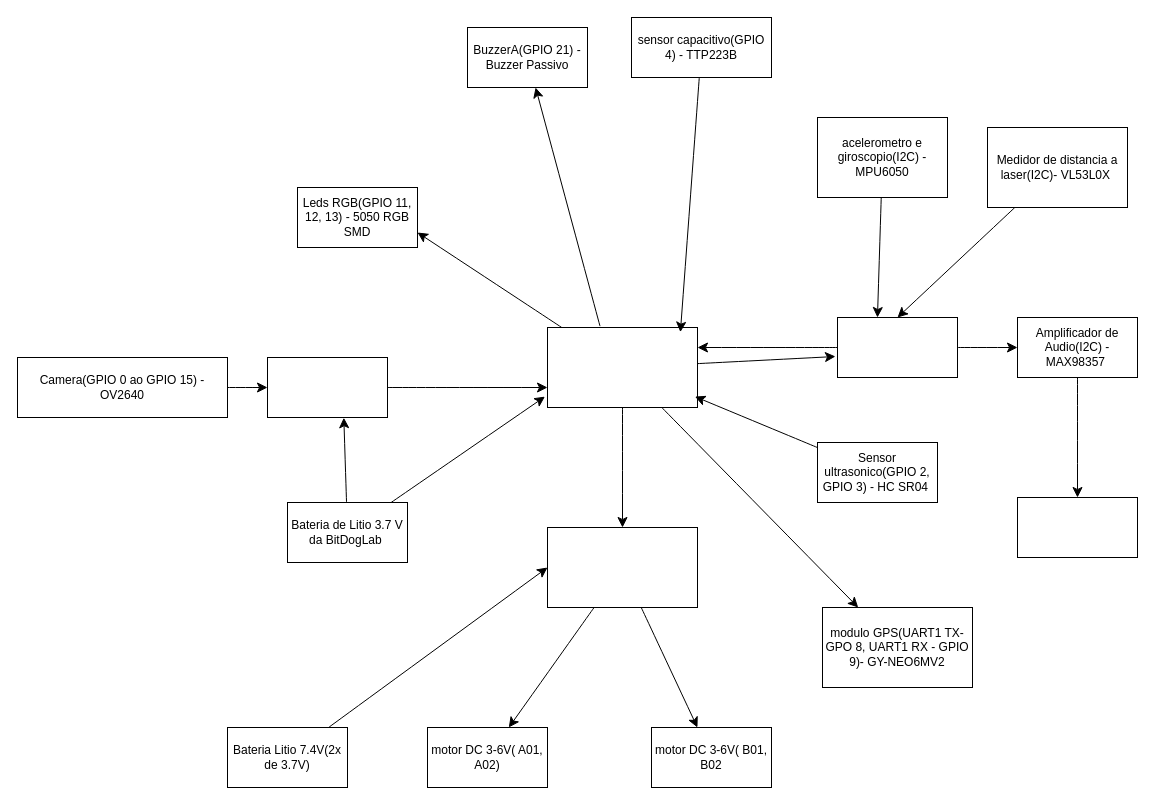
Image size: 1155x805. Some labels were removed from this diagram. The centre of each missing label's shape, as x and y in pixels:
"extensor I2C((I2C0 SDA-GPIO-0, I2C0 SCL - GPIO-1)" goes at pixel 897 347.
"mini-autofalantes - 0.5W" goes at pixel 1077 527.
"Outra Rasbperry Pi Pico W(MQTT)" goes at pixel 327 387.
"Ponte H (GPIO 18,19,20,4,16,17,28) - TB6612FNG" goes at pixel 622 567.
"Raspberry Pi Pico W - BitDogLab" goes at pixel 622 367.
